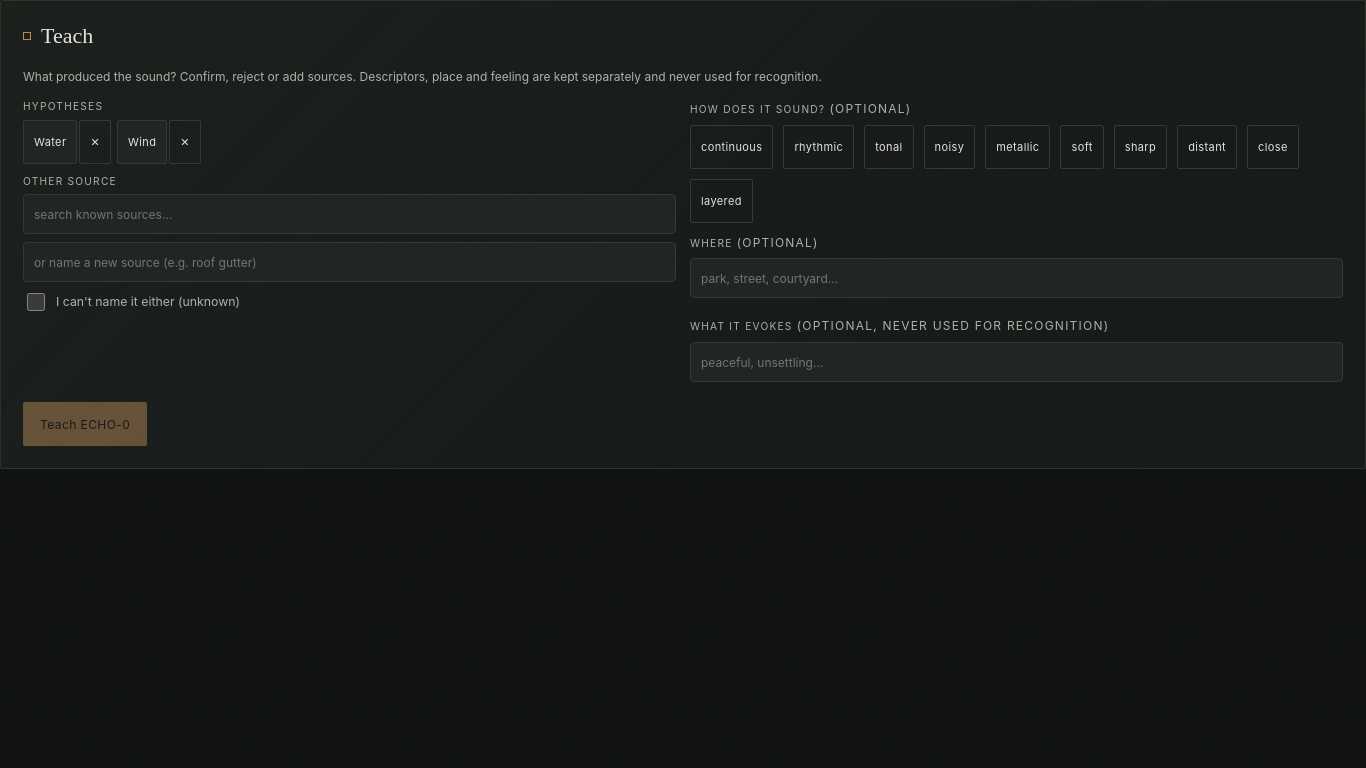
TeachPanel › shows an API failure as a clearable error
The width and height of the screenshot is (1366, 768).
Click the button "Water".
click(50, 142)  # box left=23, top=120, right=77, bottom=164
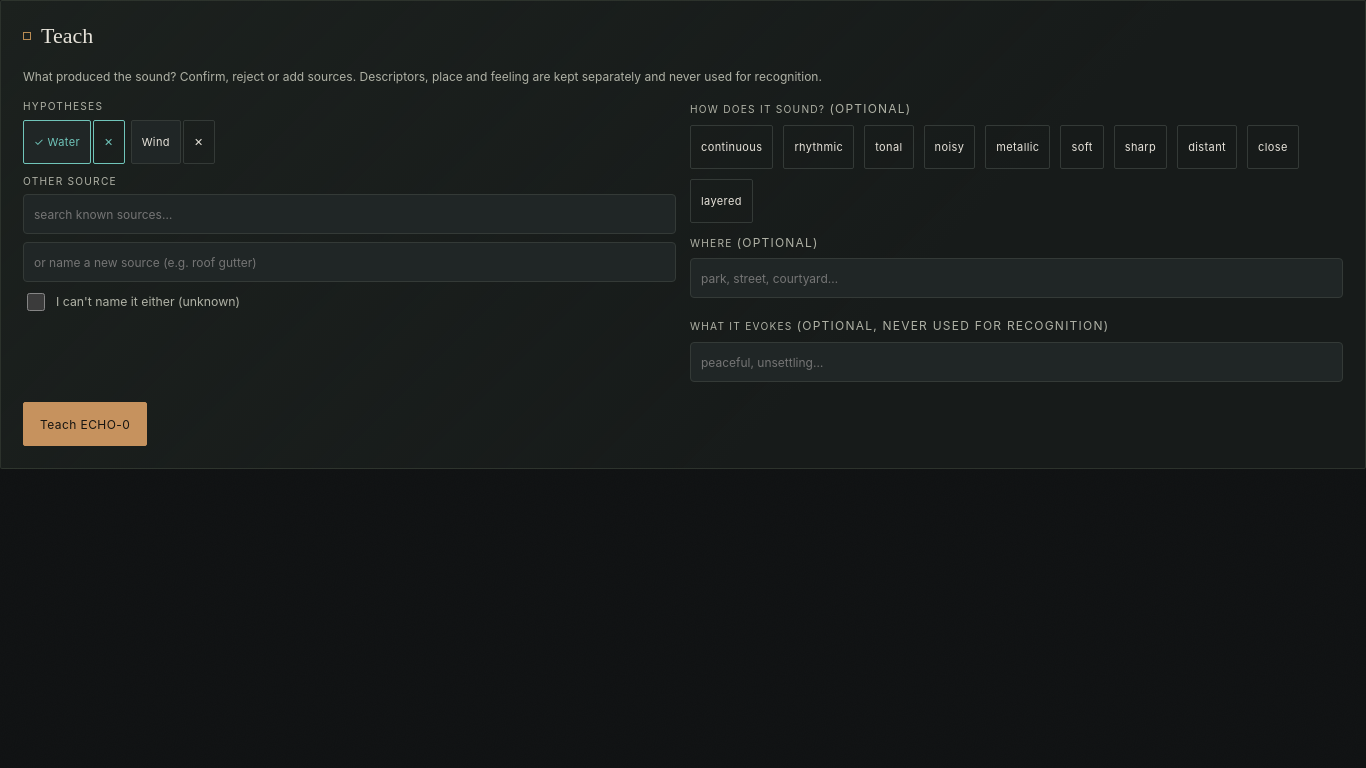
Click the button "Teach ECHO-0".
click(85, 424)  # box left=23, top=402, right=147, bottom=446
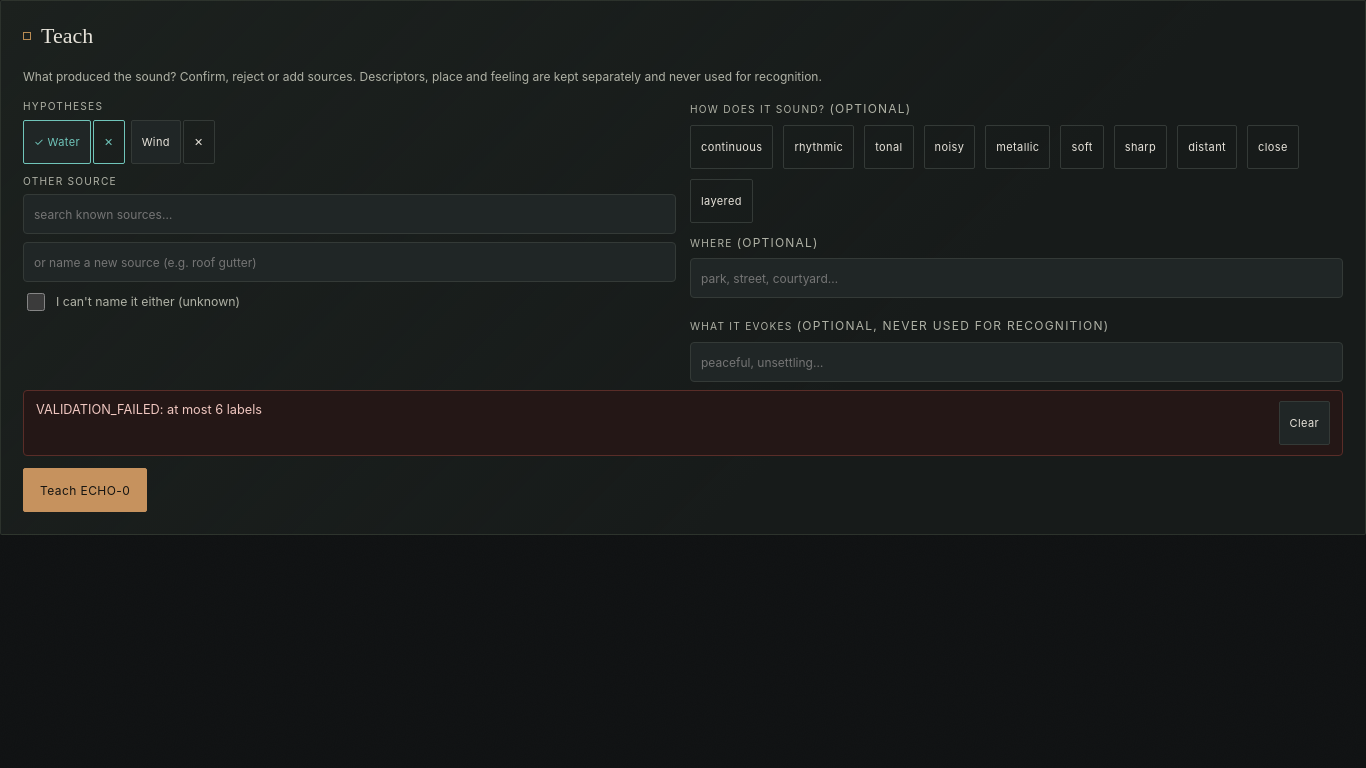
expect the message shows "VALIDATION_FAILED": met, box left=36, top=402, right=262, bottom=417
